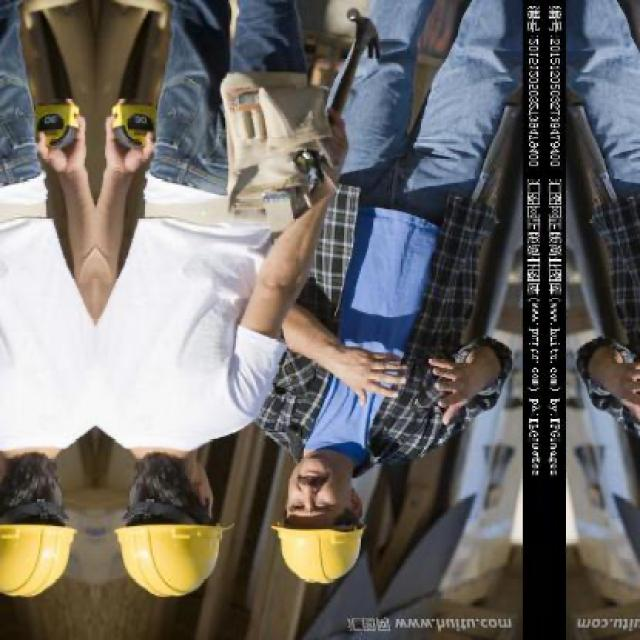con casco: (265, 391, 429, 594), (120, 375, 270, 595), (0, 387, 88, 596)
